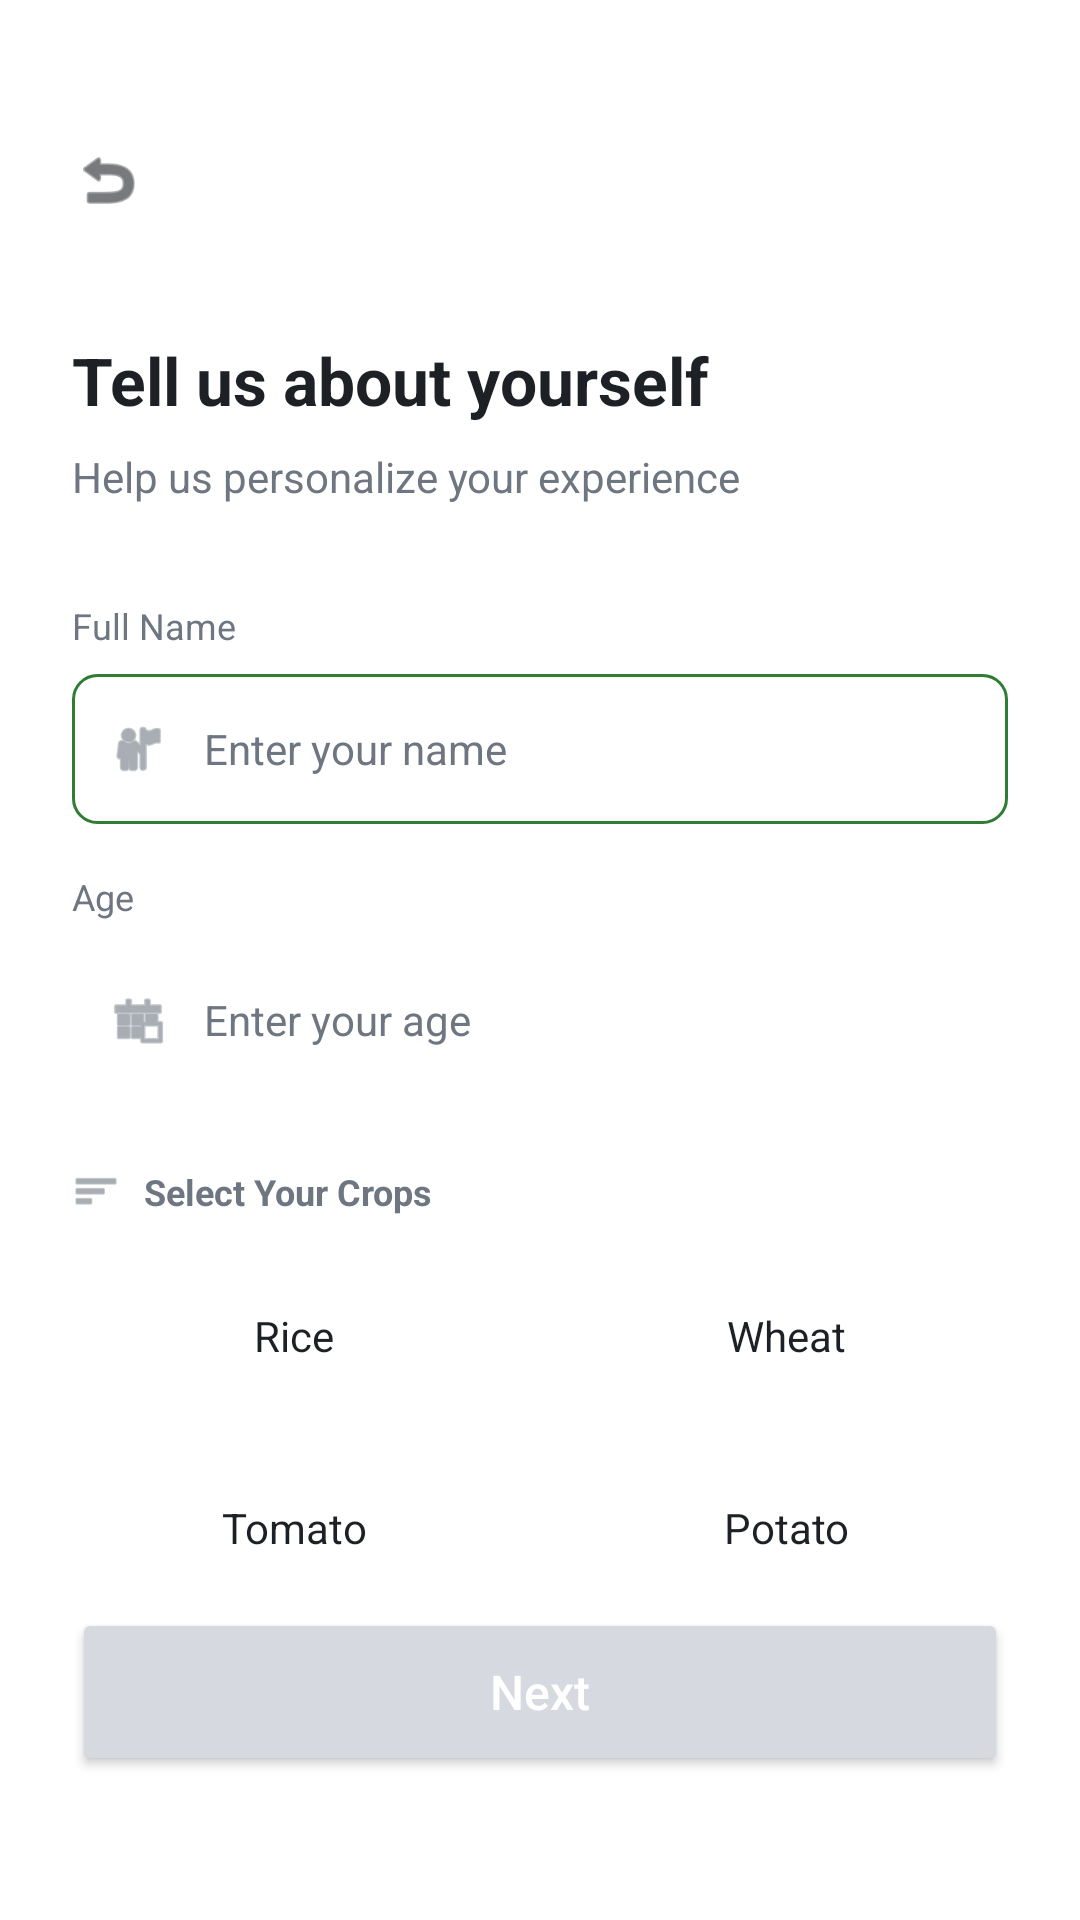

Named icons in this screenshot (1080px x 1920px) and their bounding boxes, (x1, y1, x2, y2):
revert: (83, 157, 135, 204)
sort by size: (75, 1178, 117, 1205)
today: (114, 998, 163, 1044)
